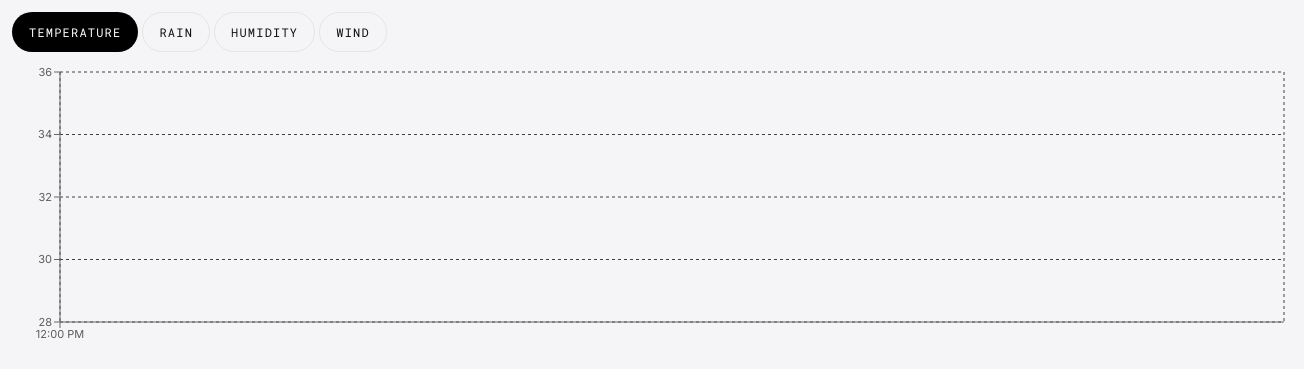
ChartTabs › switches between rain, humidity, and wind charts
What coordinates should you click on to do the following:
click the tab "Rain"
I would click on:
 (176, 32)
Its box is [142,12,210,52].
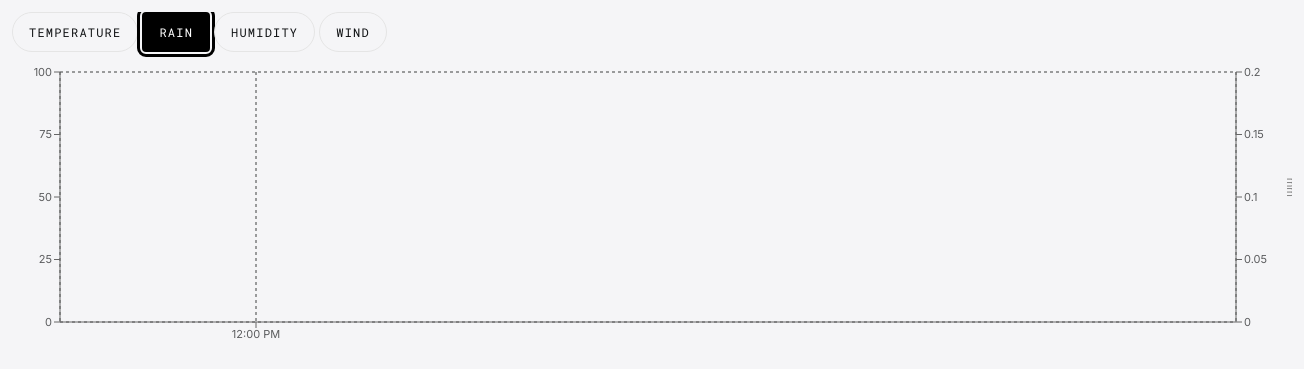
Now the picture named "rain probability" is shown
What coordinates should you click on to do the following:
click the tab "Humidity"
I would click on:
 (265, 32)
Its box is [214,12,315,52].
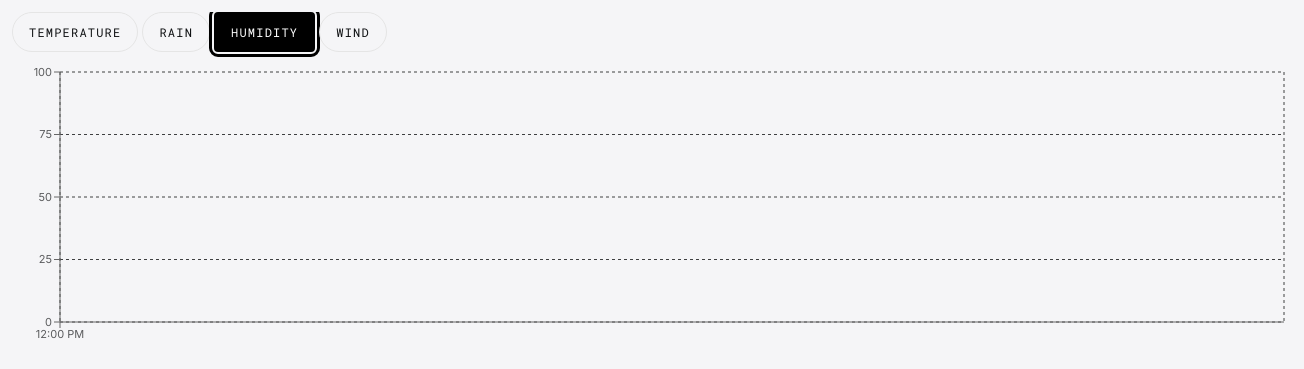
Now the picture named "humidity chart" is shown
What coordinates should you click on to do the following:
click the tab "Wind"
I would click on:
 (353, 32)
Its box is [319,12,387,52].
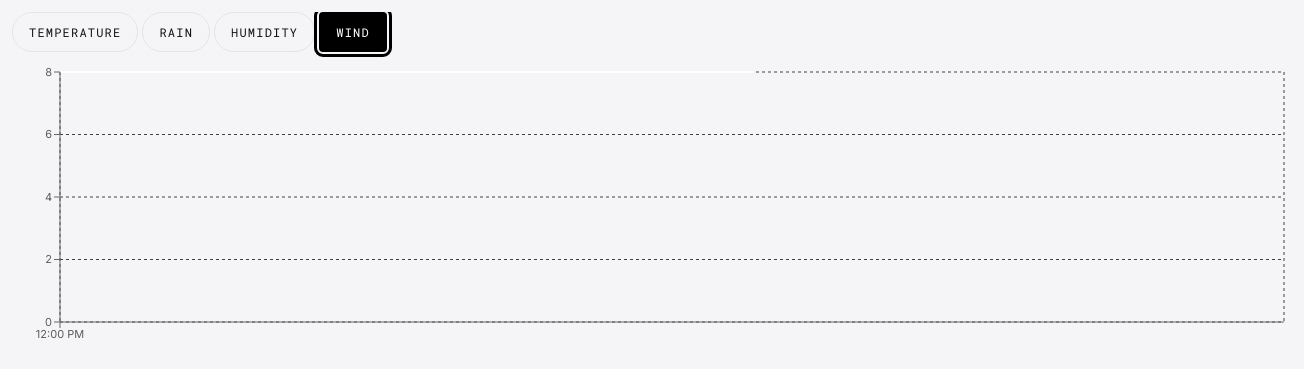
Now the picture named "wind speed chart" is shown
